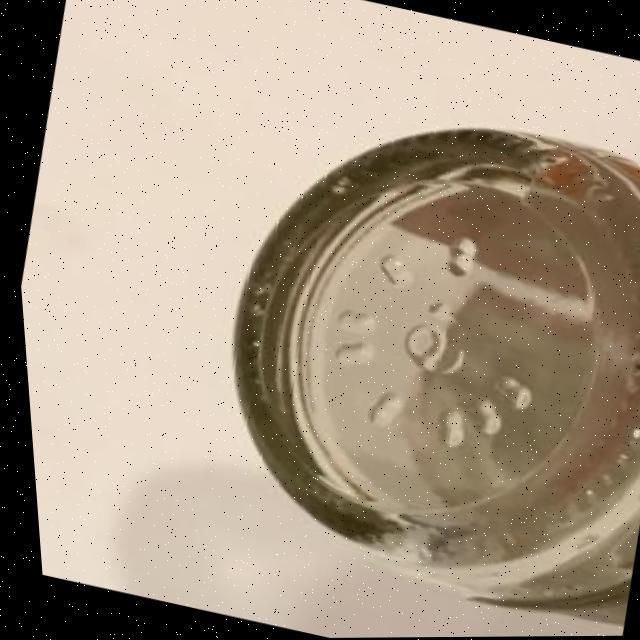glass: (150, 63, 640, 639)
